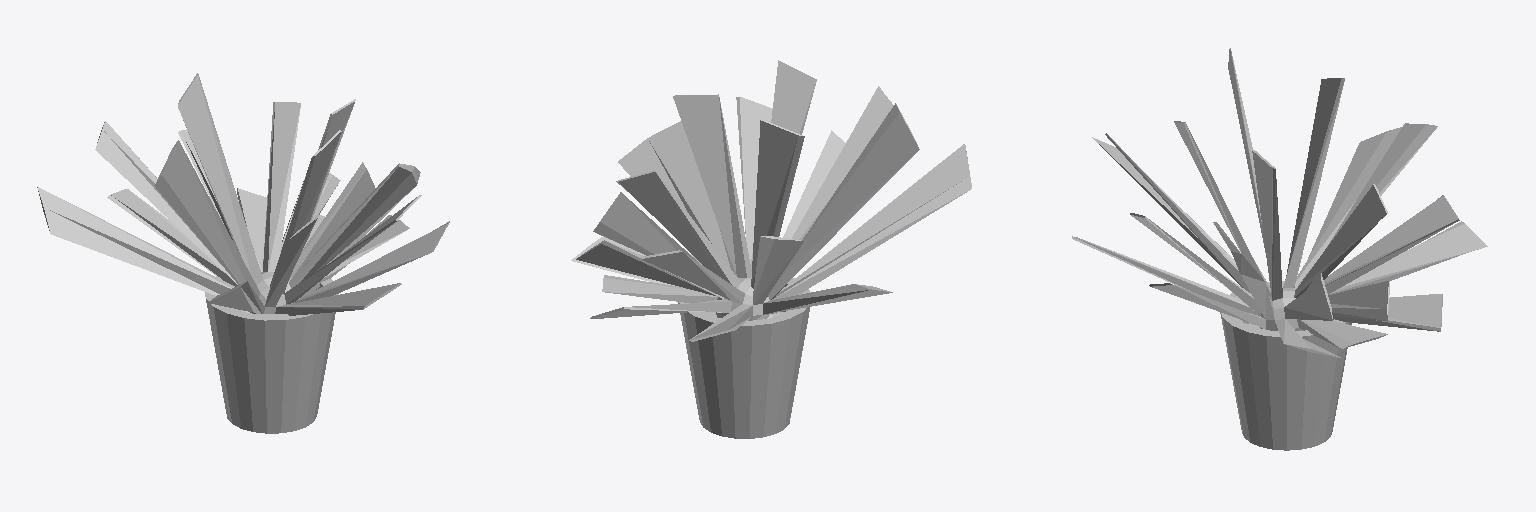
Rendered from BananaLeaf_Plant_RA.obj.
3 views of the same model, side by side, from view 1: azimuth 30°, elevation 25°; view 2: azimuth 150°, elevation 25°; view 3: azimuth 270°, elevation 25° (orthographic).
Parts seen in each view (by area): view 1: polySurface12; view 2: polySurface12; view 3: polySurface12.
Boxes of the visible parts, box(x1,y1,x2,y2) form: polySurface12: box(37, 73, 449, 433); polySurface12: box(571, 60, 971, 438); polySurface12: box(1072, 48, 1487, 450).
Size of the model in its own units: 5.66 by 5.42 by 6.17.